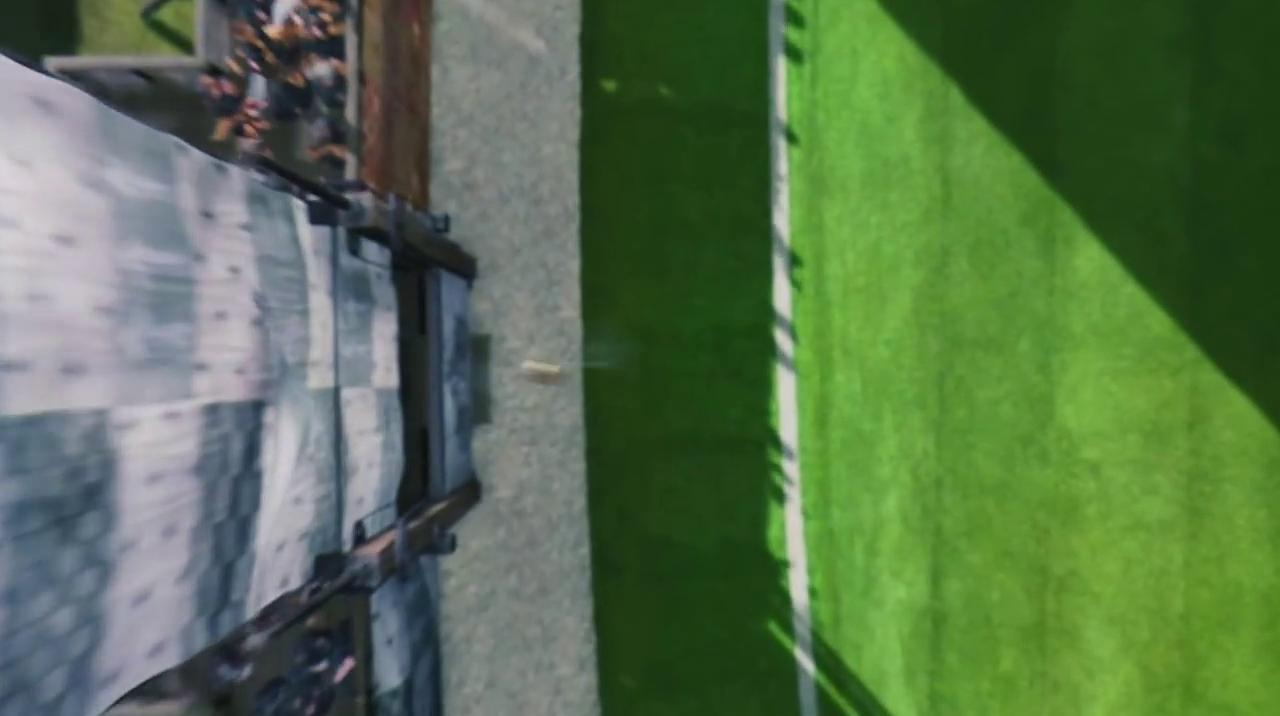snitch: (533, 359, 558, 387)
